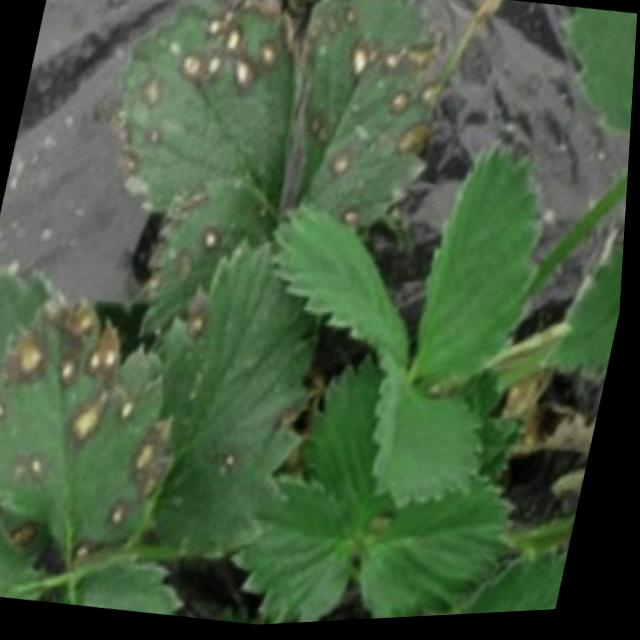Leaf Spot: (148, 237, 330, 570), (0, 299, 184, 564), (115, 0, 299, 213), (292, 0, 449, 234), (141, 180, 285, 342), (45, 558, 196, 619), (0, 268, 66, 374), (0, 512, 64, 602)
